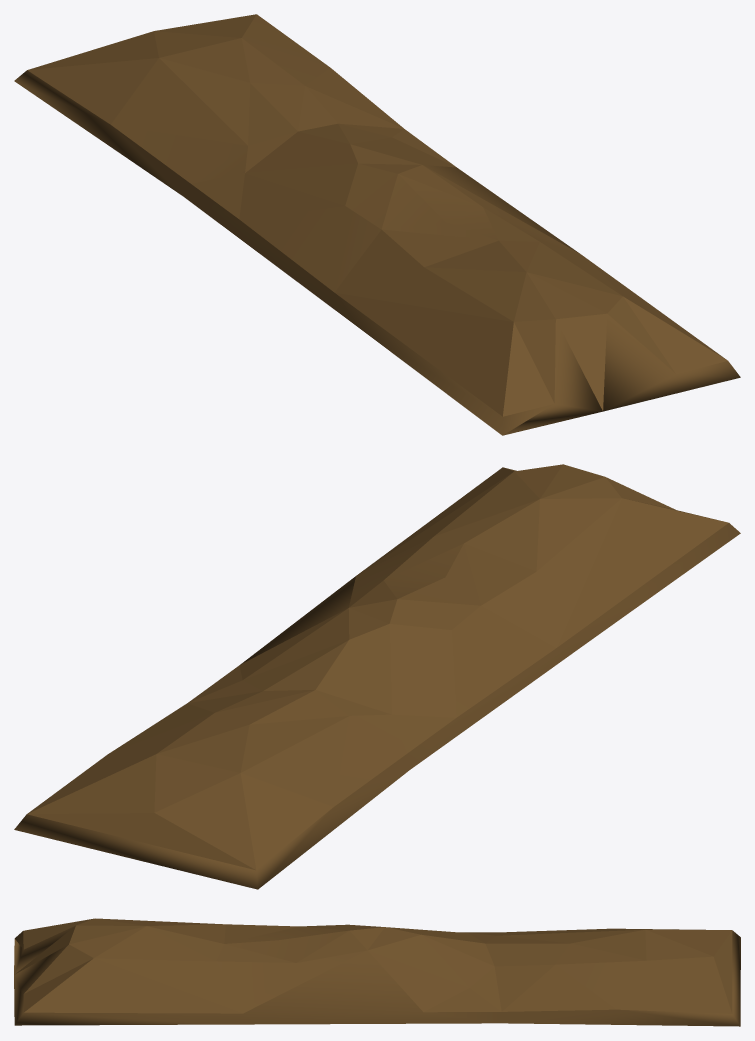
The model's file is GardenGround.fbx.
3 renders of one model, top to bottom at view 1: azimuth 30°, elevation 25°; view 2: azimuth 150°, elevation 25°; view 3: azimuth 270°, elevation 25°, orthographic. The views are drawn at different scales.
Visible parts, largest first — view 1: Plane.000; view 2: Plane.000; view 3: Plane.000.
Part boxes in pixels (<box>): Plane.000: <box>14,14,740,435</box>; Plane.000: <box>14,464,740,889</box>; Plane.000: <box>14,918,740,1026</box>.
Size of the model in its own units: 206 by 57.52 by 709.
